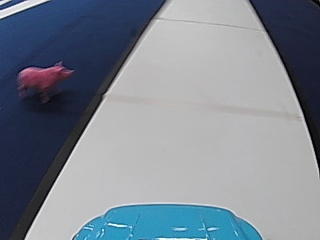pig: (17, 58, 73, 104)
